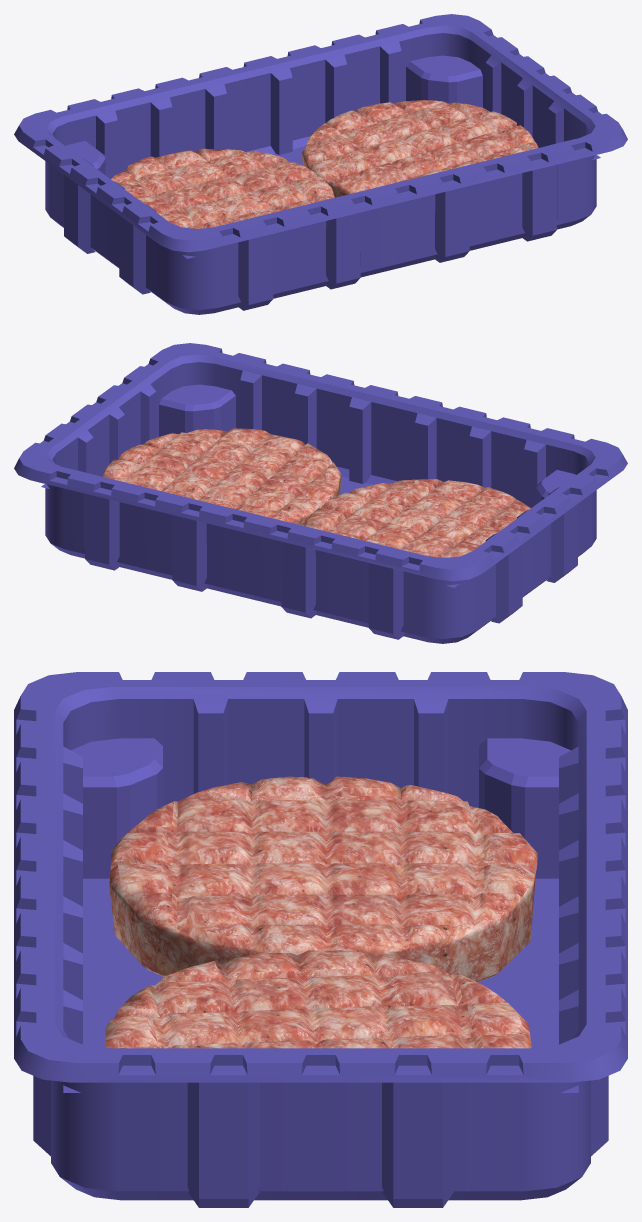
Rendered from Burger.glb.
3 renders of one model, top to bottom at view 1: azimuth 30°, elevation 25°; view 2: azimuth 150°, elevation 25°; view 3: azimuth 270°, elevation 25°, orthographic. The views are drawn at different scales.
Visible parts, largest first — view 1: Burger Tray, Burger; view 2: Burger Tray, Burger; view 3: Burger Tray, Burger.
Part boxes in pixels (left/top/right/bottom): Burger Tray: left=14, top=14, right=627, bottom=314; Burger: left=111, top=100, right=538, bottom=228; Burger Tray: left=14, top=343, right=627, bottom=643; Burger: left=102, top=428, right=530, bottom=557; Burger Tray: left=14, top=672, right=627, bottom=1207; Burger: left=105, top=776, right=537, bottom=1048.
Size of the model in its own units: 0.2476 by 0.046 by 0.1619.
2 materials, 2 textured.
